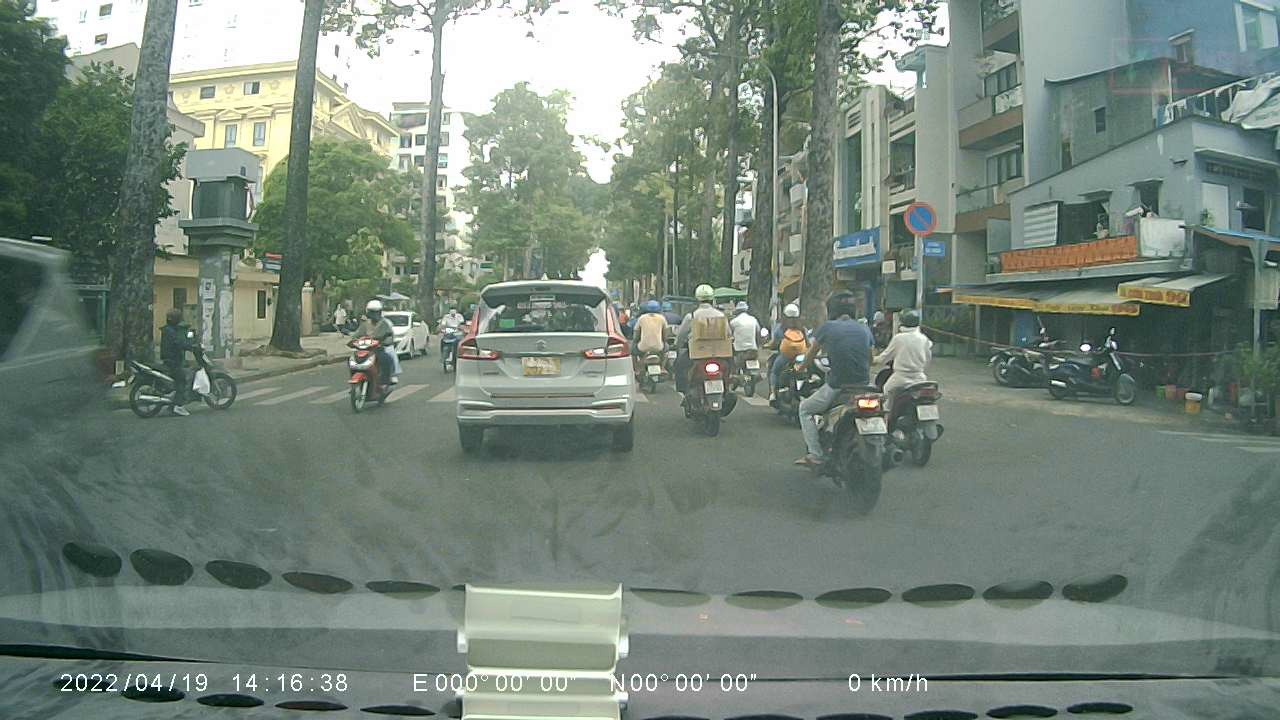Cam do xe: (899, 199, 938, 239)
